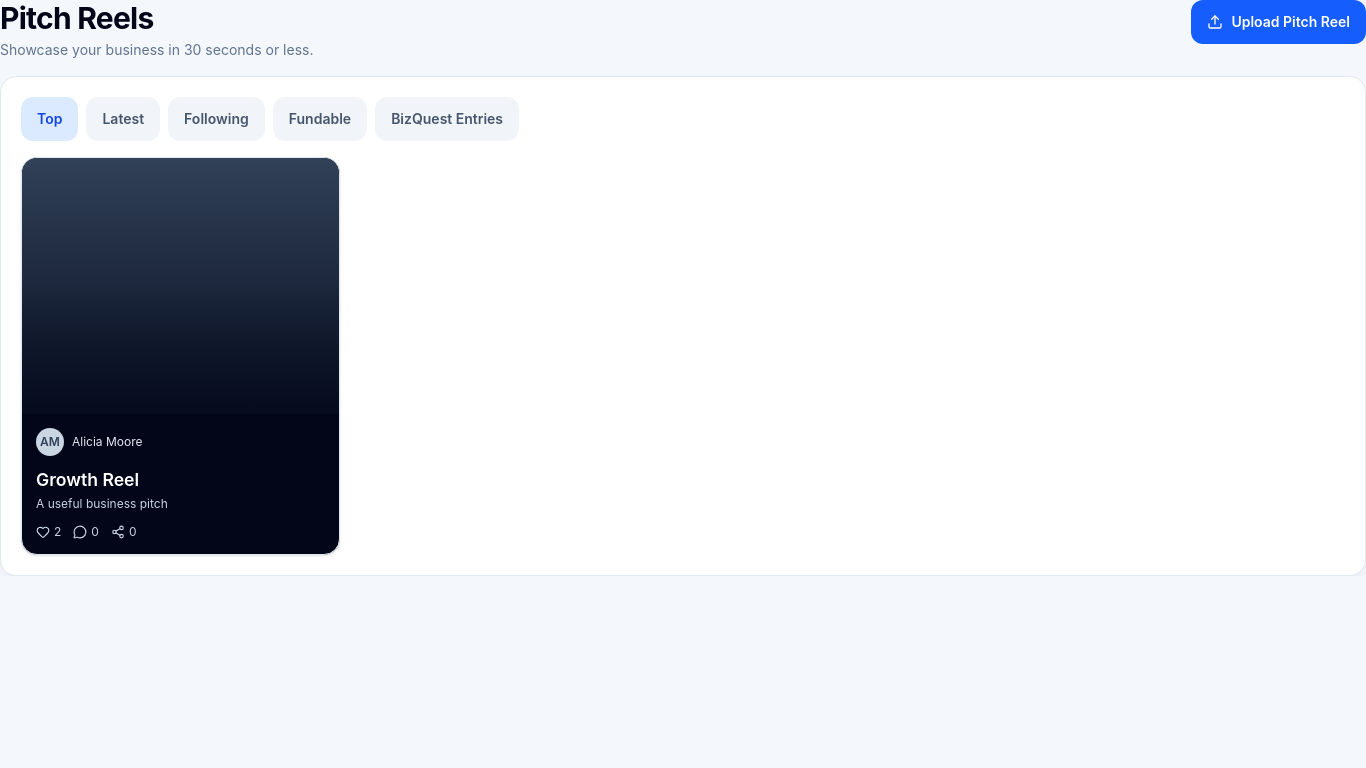
PitchReelsPage interactions › copies a link, records the share, and updates its count
Click the button with aria-label "open pitch reel: growth reel" at (180, 356), box 21,157 -> 340,555
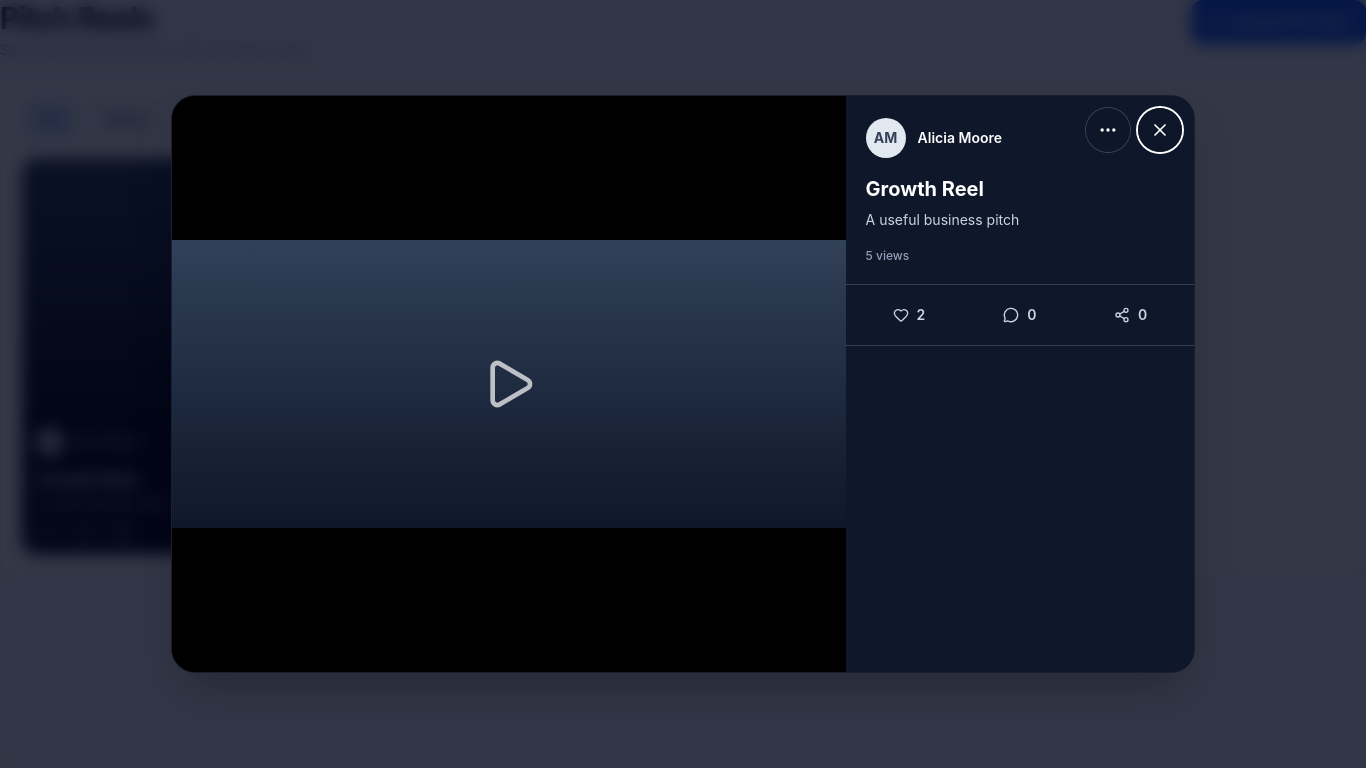
expect the dialog "Growth Reel" is shown: met
Click the button named "share reel, 0 shares" at (1131, 314), box 1075,292 -> 1186,336
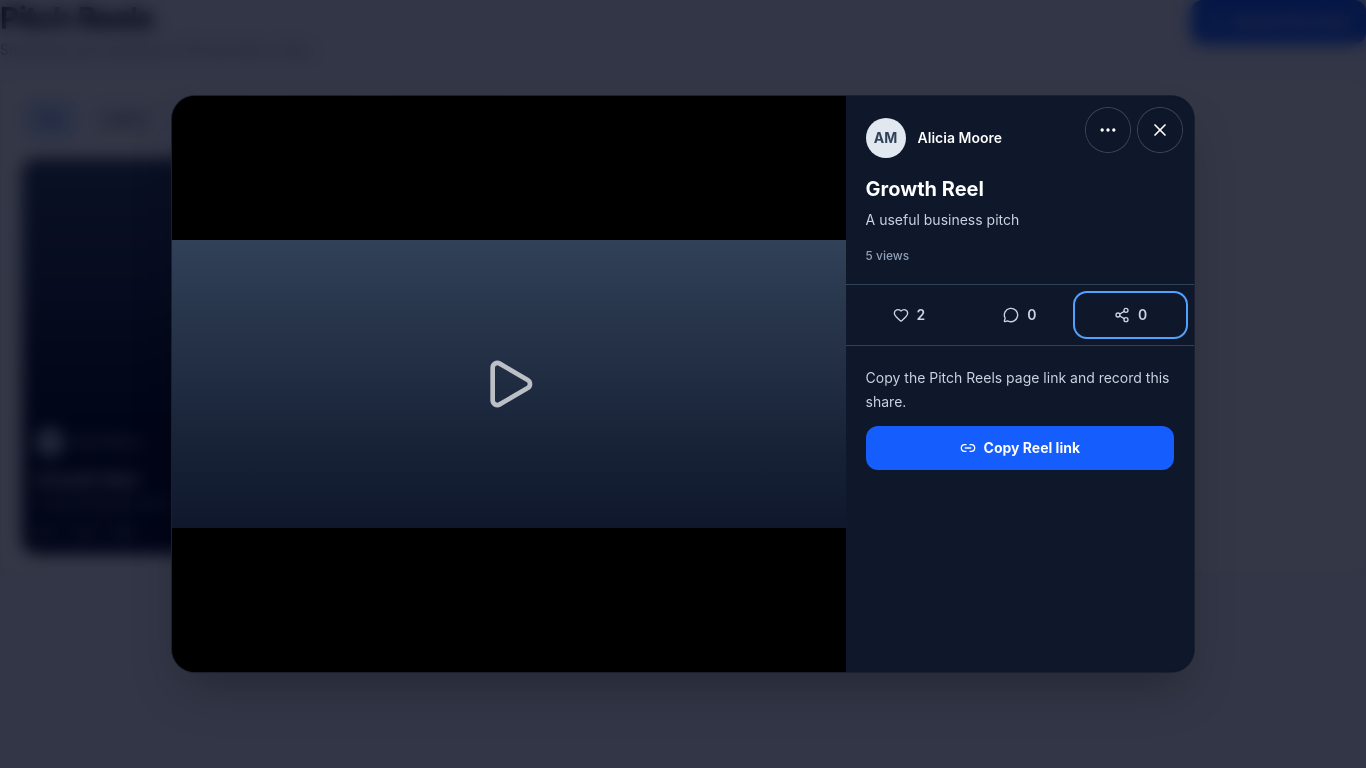
Click the button "Copy Reel link" at (1020, 448), box 866,426 -> 1174,470
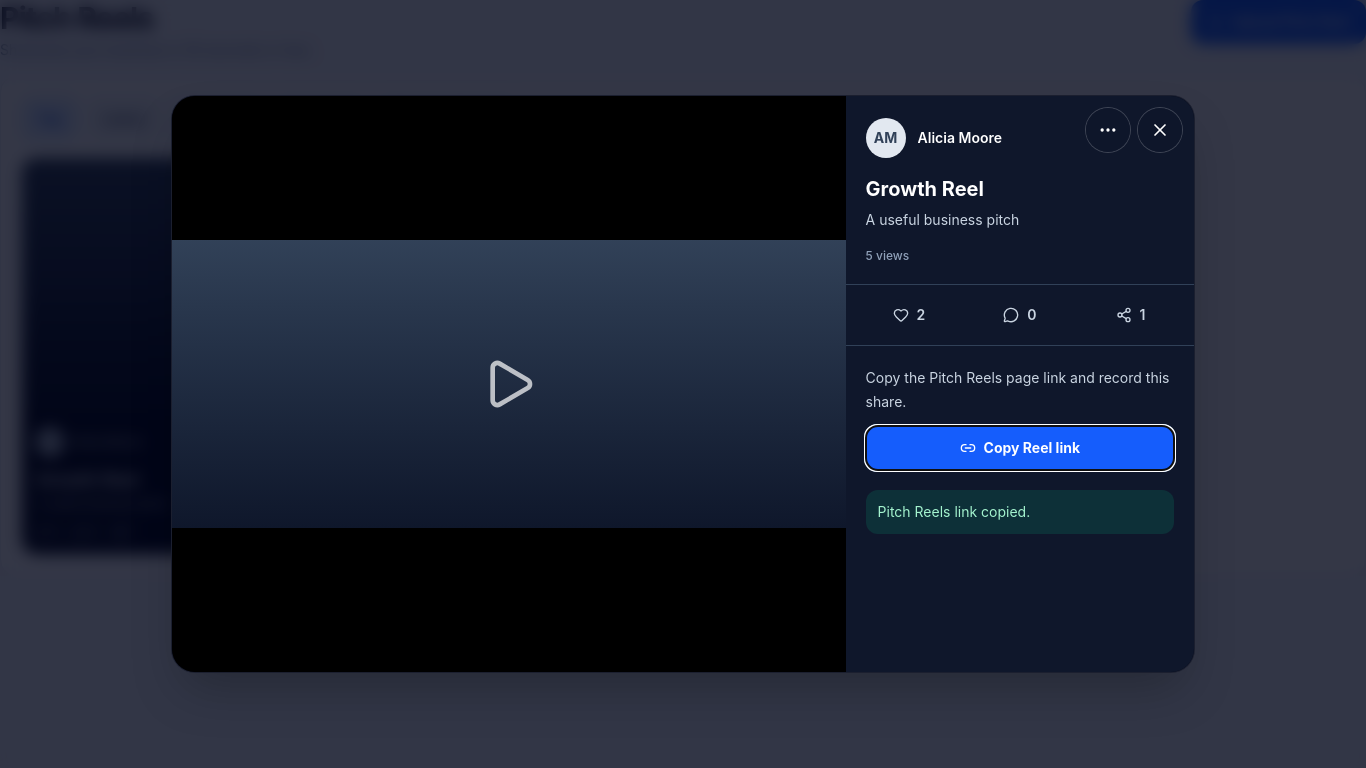
expect the text "Pitch Reels link copied." is shown: met, box 866,490 -> 1174,534
expect the button named "share reel, 1 shares" is shown: met, box 1075,292 -> 1186,336
